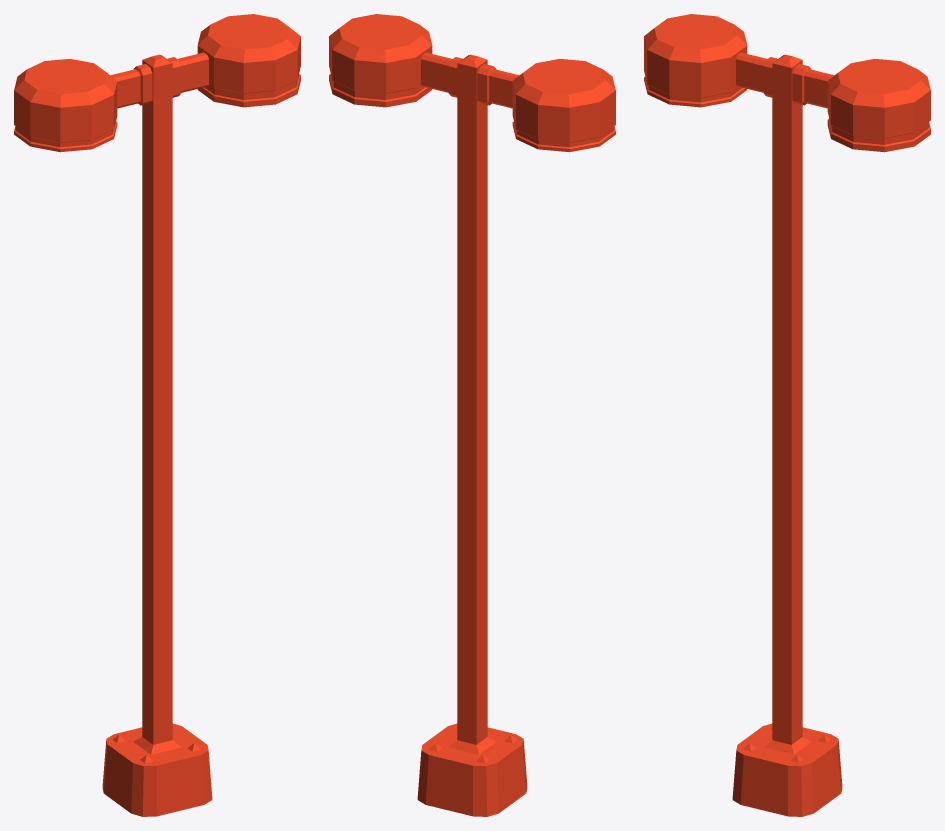
Rendered from SM_Lamp_Sidewalk_A_City.fbx.
3 views of the same model, side by side, from view 1: azimuth 30°, elevation 25°; view 2: azimuth 150°, elevation 25°; view 3: azimuth 330°, elevation 25° (orthographic).
Visible parts, largest first — view 1: SM_Lamp_Sidewalk_A_City; view 2: SM_Lamp_Sidewalk_A_City; view 3: SM_Lamp_Sidewalk_A_City.
Part boxes in pixels (box(x1,y1,x2,y2)): SM_Lamp_Sidewalk_A_City: box(14, 14, 300, 816); SM_Lamp_Sidewalk_A_City: box(329, 14, 615, 816); SM_Lamp_Sidewalk_A_City: box(644, 14, 930, 816).
Bounding box in the file's own units: 1.44 × 3.76 × 0.4869.
